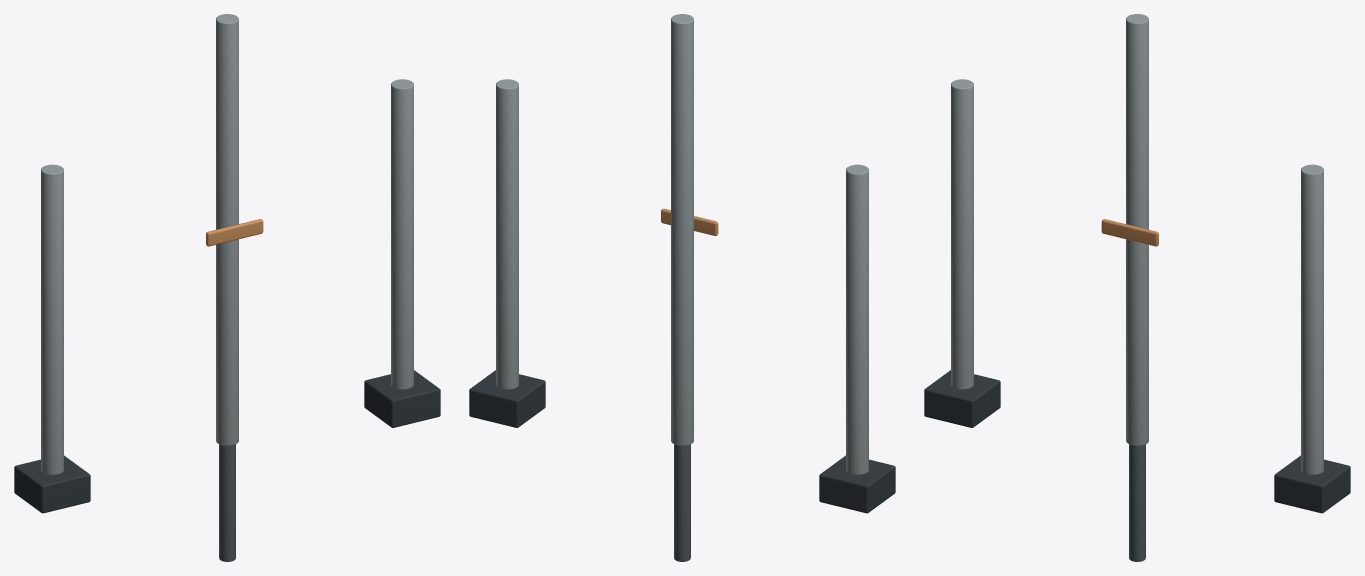
The model's file is HandRailSection.fbx.
3 views of the same model, side by side, from view 1: azimuth 30°, elevation 25°; view 2: azimuth 150°, elevation 25°; view 3: azimuth 330°, elevation 25° (orthographic).
Visible parts, largest first — view 1: HandRailSection_Mesh; view 2: HandRailSection_Mesh; view 3: HandRailSection_Mesh.
Part boxes in pixels (x1=…): HandRailSection_Mesh: x1=14, y1=14, x2=440, y2=561; HandRailSection_Mesh: x1=469, y1=14, x2=895, y2=561; HandRailSection_Mesh: x1=924, y1=14, x2=1350, y2=561.
Bounding box in the file's own units: 178 × 230 × 22.
4 materials, 4 textured.
